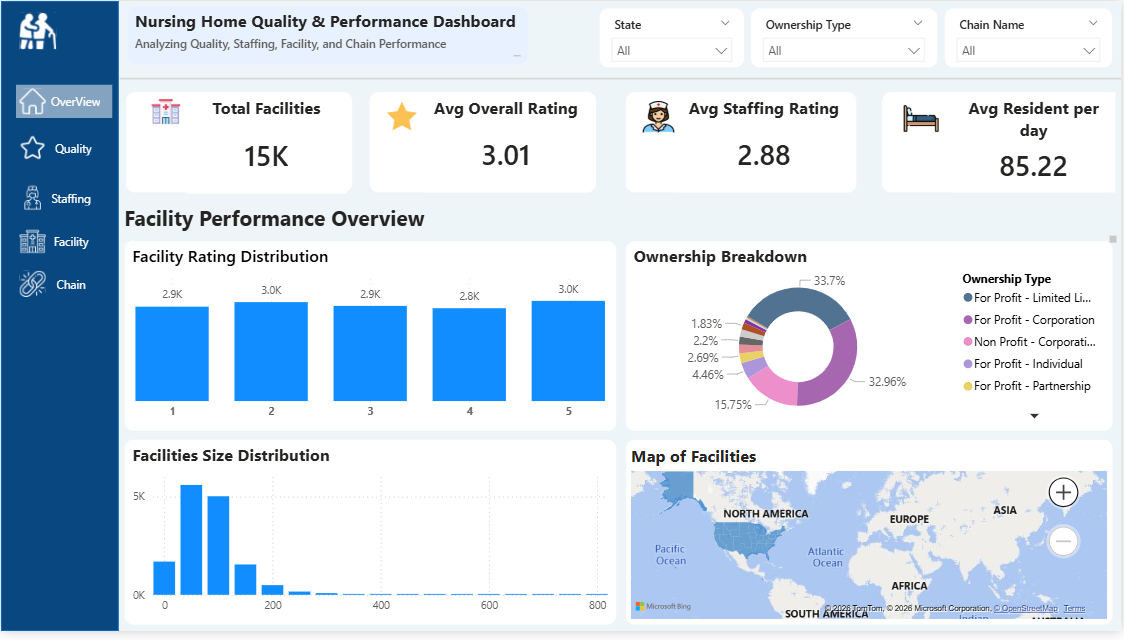

What the dashboard file says about the page in this screenshot:
{"tool":"powerbi","page":{"name":"Overview","canvas":[1280,720],"ordinal":0},"visuals":[{"type":"shape","box":[0,0,134.4,720],"z":0,"group":"g7"},{"type":"group","id":"g1","title":"Header","box":[135.7,5.1,1144.3,113.5],"z":0},{"type":"textbox","title":"Nursing Home Quality & Performance Dashboard","box":[144.7,5.1,458.6,67.1],"z":0,"group":"g1"},{"type":"shape","box":[431.2,103.9,263,114.5],"z":0,"group":"g4"},{"type":"shape","box":[719.4,104.2,263.1,114.3],"z":0,"group":"g5"},{"type":"group","id":"g2","title":"Total Facilites","box":[142.9,104.3,263,115.7],"z":0,"group":"g3"},{"type":"shape","box":[1007.6,104.6,263,114.5],"z":0,"group":"g6"},{"type":"shape","box":[142.9,105,263,114.5],"z":0,"group":"g2"},{"type":"tableEx","fields":{"Values":["cms_cleaned.Provider Name","cms_cleaned.CMS Certification Number (CCN)"]},"box":[967.4,540,308.3,173.3],"z":0,"group":"g8"},{"type":"shape","title":"line","box":[135.7,54.3,1144.3,64.3],"z":500,"group":"g1"},{"type":"slicer","fields":{"Values":["cms_cleaned.State"]},"box":[683.7,7.5,165,67.5],"z":1000,"group":"g1"},{"type":"group","id":"g3","title":"KPI Group","box":[142.9,103.9,1131.4,116.1],"z":1000},{"type":"group","id":"g4","title":"Overall Rating","box":[431.2,103.9,263,114.8],"z":1000,"group":"g3"},{"type":"cardVisual","title":"Avg Staffing Rating","fields":{"Data":["cms_cleaned.Average Staffing Rating"]},"box":[778,104.1,198.2,114.5],"z":1000,"group":"g5"},{"type":"cardVisual","title":"Avg Overall Rating","fields":{"Data":["cms_cleaned.Average Overall Rating"]},"box":[494.5,104.2,192.2,114.5],"z":1000,"group":"g4"},{"type":"cardVisual","title":"Total Facilities","fields":{"Data":["cms_cleaned.Total Facilities"]},"box":[214.3,104.3,184.6,115.7],"z":1000,"group":"g2"},{"type":"cardVisual","title":" Avg Resident per day","fields":{"Data":["cms_cleaned.Average Resident per day"]},"box":[1088.1,104.5,186.2,114.5],"z":1000,"group":"g6"},{"type":"actionButton","title":"Staffing","box":[0,274.3,134.3,98.6],"z":1000,"group":"g7"},{"type":"textbox","title":"Select a facility and drill through for detailed analysis","box":[965.7,500,315,41.7],"z":1000,"group":"g8"},{"type":"slicer","fields":{"Values":["cms_cleaned.Ownership Type"]},"box":[857.5,7.5,212.5,67.5],"z":2000,"group":"g1"},{"type":"group","id":"g5","title":"Stafing rating","box":[719.4,104.1,263.1,114.5],"z":2000,"group":"g3"},{"type":"image","box":[167.9,109.6,50,40],"z":2000,"group":"g2"},{"type":"image","box":[727.1,113.4,50,40],"z":2000,"group":"g5"},{"type":"image","box":[1031.1,113.8,50,40],"z":2000,"group":"g6"},{"type":"image","box":[446.8,114.1,50,40],"z":2000,"group":"g4"},{"type":"clusteredColumnChart","title":"Facility Rating Distribution","fields":{"Category":["cms_cleaned.Overall Rating"],"Y":["CountNonNull(cms_cleaned.CMS Certification Number (CCN))"]},"box":[141.4,274.3,561.4,217.1],"z":2000},{"type":"actionButton","title":"Chain","box":[0,462.9,134.3,90],"z":2000,"group":"g7"},{"type":"slicer","fields":{"Values":["cms_cleaned.Chain Name"]},"box":[1078.7,7.5,191.2,67.5],"z":3000,"group":"g1"},{"type":"group","id":"g6","title":"Resident per day","box":[1007.6,104.5,266.7,114.6],"z":3000,"group":"g3"},{"type":"donutChart","title":"Ownership Breakdown","fields":{"Y":["cms_cleaned.Total Facilities"],"Category":["cms_cleaned.Ownership Category"]},"box":[715,275,555,216.7],"z":3000},{"type":"actionButton","title":"Facility","box":[2.9,360,132.9,102.9],"z":3000,"group":"g7"},{"type":"actionButton","title":"OverView","box":[0,98.6,134.3,90],"z":4000,"group":"g7"},{"type":"textbox","title":"Facility Performance Overview","box":[135.7,231.4,1144.3,50],"z":4000},{"type":"actionButton","box":[0,188.6,134.3,90],"z":5000,"group":"g7"},{"type":"clusteredColumnChart","title":"Facilities Size Distribution","fields":{"Category":["cms_cleaned.Number of Certified Beds (bins)"],"Y":["cms_cleaned.Total Facilities"]},"box":[143.3,503.3,420,210],"z":5000},{"type":"actionButton","box":[42.9,11.4,50,54.3],"z":6000,"group":"g7"},{"type":"filledMap","title":"Facility Distribution by State","fields":{"Category":["cms_cleaned.State"],"Series":["cms_cleaned.State"]},"box":[580,501.7,373.3,210],"z":6000},{"type":"group","id":"g7","title":"Side Bar","box":[0,0,135.7,720],"z":7000},{"type":"group","id":"g8","title":"Group 1","box":[965.7,500,314.3,212.9],"z":8000}]}

Visuals, with their boxes on the page's 1280x720 design canvas (x1, y1, x2, y2). These are canvas units, not pixel positions in the 1124x640 screenshot, which may show the page scaled, cropped or inside an application window:
shape: Rect(0, 0, 134, 720)
"Header" group: Rect(136, 5, 1280, 119)
"Nursing Home Quality & Performance Dashboard" textbox: Rect(145, 5, 603, 72)
shape: Rect(431, 104, 694, 218)
shape: Rect(719, 104, 982, 218)
"Total Facilites" group: Rect(143, 104, 406, 220)
shape: Rect(1008, 105, 1271, 219)
shape: Rect(143, 105, 406, 220)
tableEx - cms_cleaned.Provider Name x cms_cleaned.CMS Certification Number (CCN): Rect(967, 540, 1276, 713)
"line" shape: Rect(136, 54, 1280, 119)
slicer - cms_cleaned.State: Rect(684, 8, 849, 75)
"KPI Group" group: Rect(143, 104, 1274, 220)
"Overall Rating" group: Rect(431, 104, 694, 219)
"Avg Staffing Rating" cardVisual: Rect(778, 104, 976, 219)
"Avg Overall Rating" cardVisual: Rect(494, 104, 687, 219)
"Total Facilities" cardVisual: Rect(214, 104, 399, 220)
" Avg Resident per day" cardVisual: Rect(1088, 104, 1274, 219)
"Staffing" actionButton: Rect(0, 274, 134, 373)
"Select a facility and drill through for detailed analysis" textbox: Rect(966, 500, 1281, 542)
slicer - cms_cleaned.Ownership Type: Rect(858, 8, 1070, 75)
"Stafing rating" group: Rect(719, 104, 982, 219)
image: Rect(168, 110, 218, 150)
image: Rect(727, 113, 777, 153)
image: Rect(1031, 114, 1081, 154)
image: Rect(447, 114, 497, 154)
"Facility Rating Distribution" clusteredColumnChart: Rect(141, 274, 703, 491)
"Chain" actionButton: Rect(0, 463, 134, 553)
slicer - cms_cleaned.Chain Name: Rect(1079, 8, 1270, 75)
"Resident per day" group: Rect(1008, 104, 1274, 219)
"Ownership Breakdown" donutChart: Rect(715, 275, 1270, 492)
"Facility" actionButton: Rect(3, 360, 136, 463)
"OverView" actionButton: Rect(0, 99, 134, 189)
"Facility Performance Overview" textbox: Rect(136, 231, 1280, 281)
actionButton: Rect(0, 189, 134, 279)
"Facilities Size Distribution" clusteredColumnChart: Rect(143, 503, 563, 713)
actionButton: Rect(43, 11, 93, 66)
"Facility Distribution by State" filledMap: Rect(580, 502, 953, 712)
"Side Bar" group: Rect(0, 0, 136, 720)
"Group 1" group: Rect(966, 500, 1280, 713)
